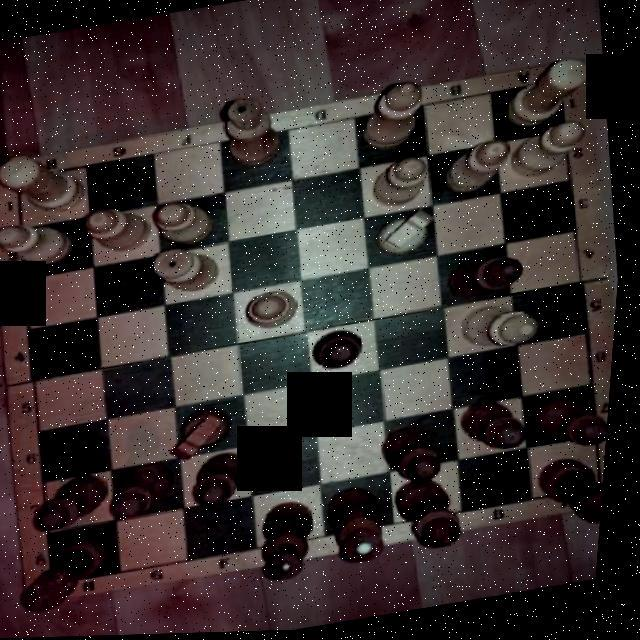chess-table-corners: (26, 553, 101, 607), (520, 60, 592, 114), (0, 156, 58, 208), (574, 461, 612, 517)
